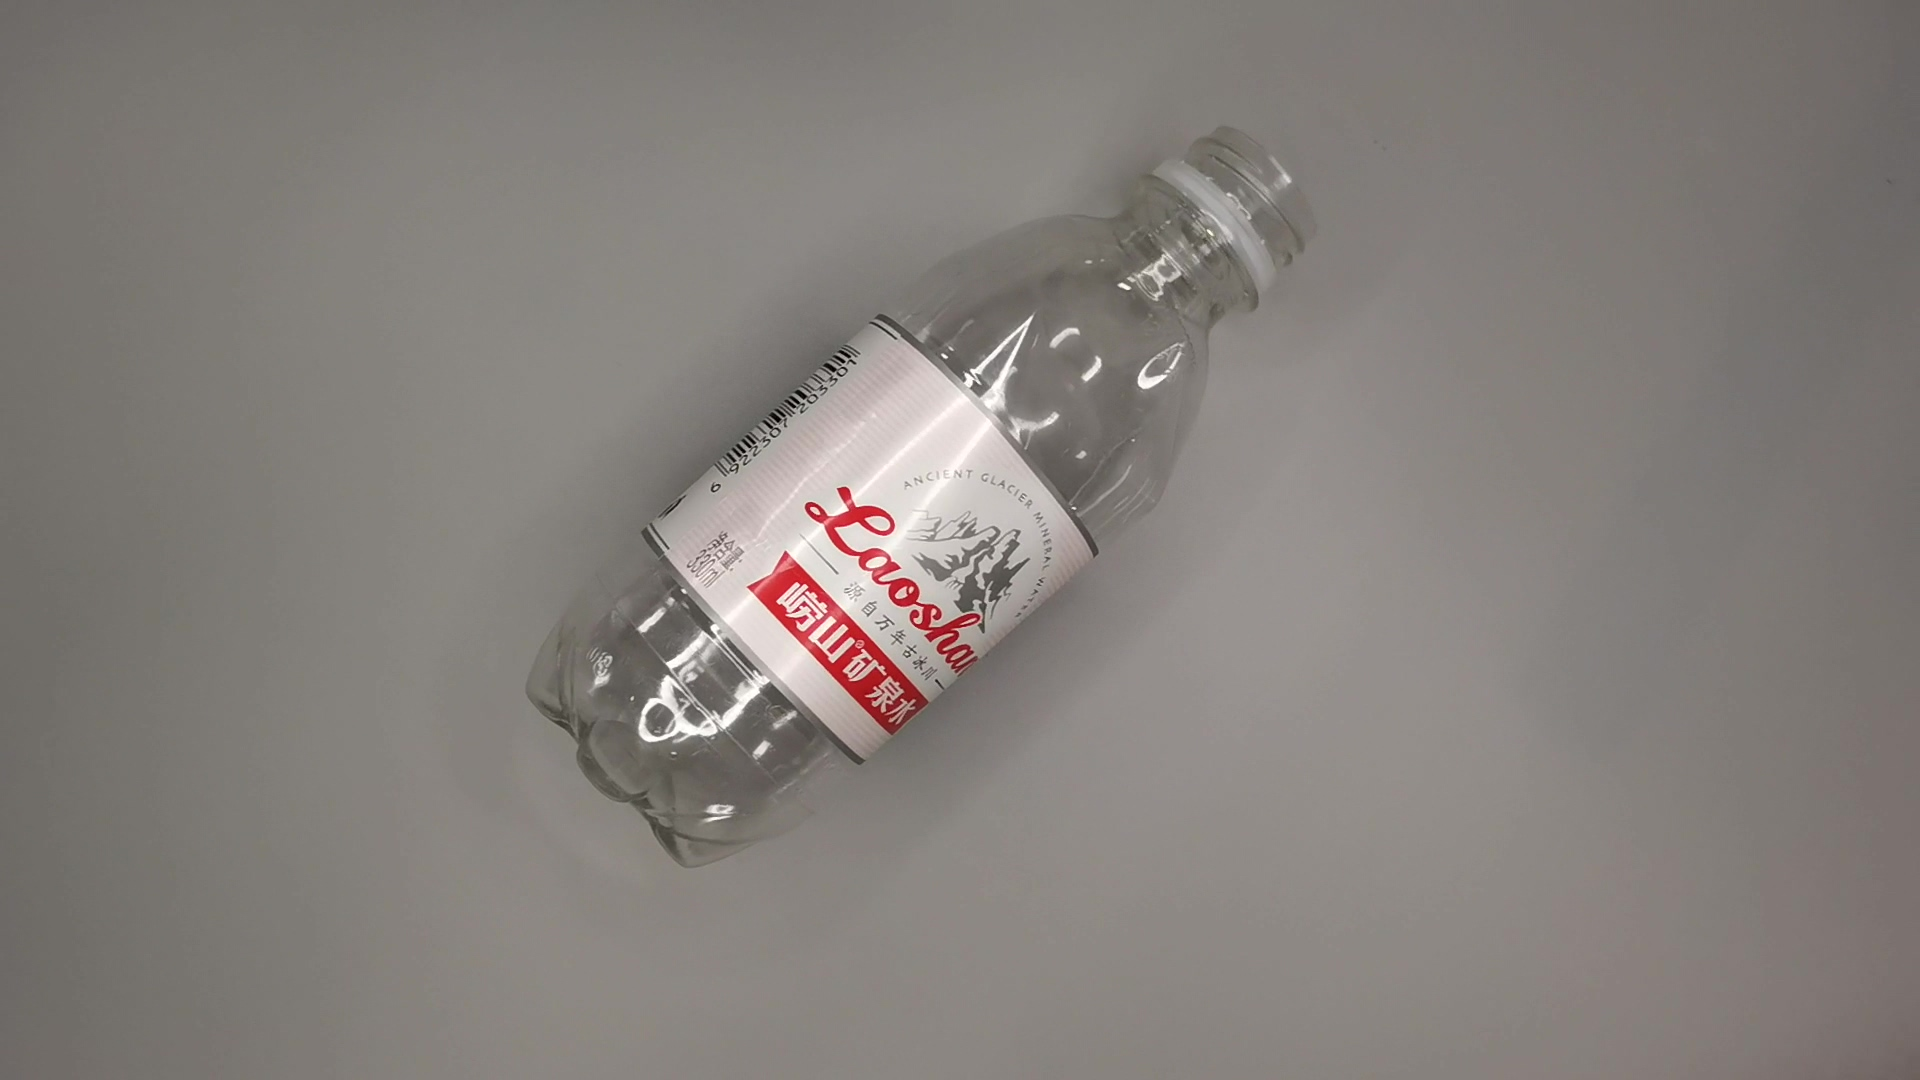bottle: (512, 119, 1331, 886)
